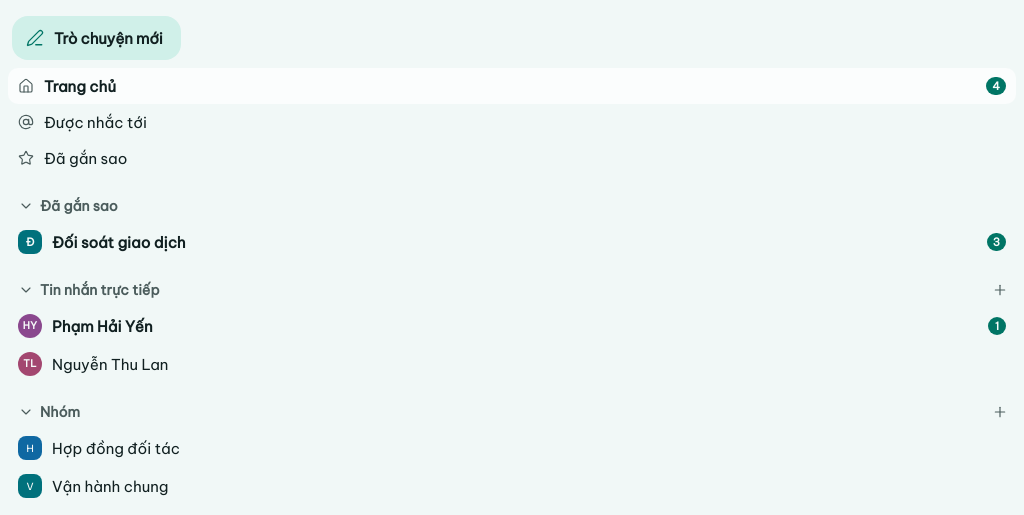
Test: the Đã gắn sao section › folds like the other sections and totals its unread while folded
Click the button "Đã gắn sao": (79, 206) [12,192,1014,220]
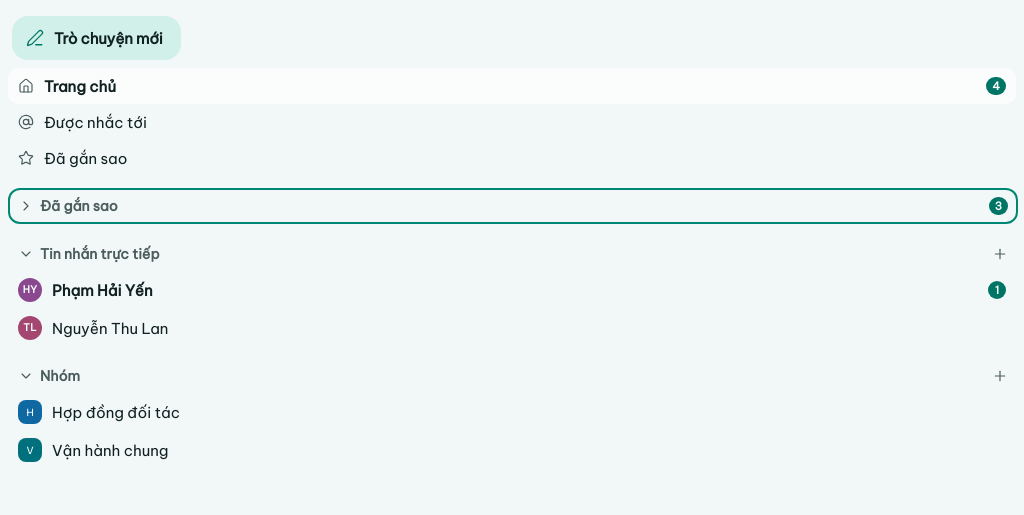
Expected: the text named "3 tin chưa đọc" is shown, [989,197,1008,215]
Now the button "Đã gắn sao 3" is collapsed, box [12,192,1014,220]
